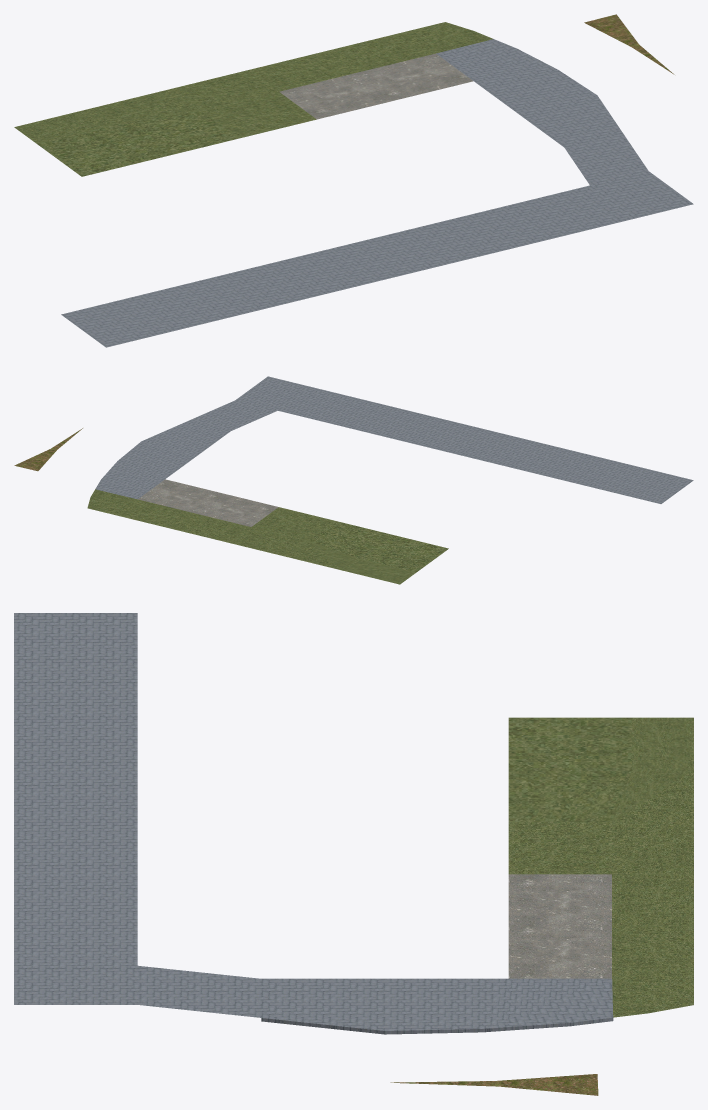
Rendered from vegasnedge17.obj.
3 views of the same model, one above another, from view 1: azimuth 30°, elevation 25°; view 2: azimuth 150°, elevation 25°; view 3: azimuth 270°, elevation 25° (orthographic). The views are drawn at different scales.
Visible parts, largest first — view 1: VegasNedge17; view 2: VegasNedge17; view 3: VegasNedge17.
Part boxes in pixels (box(x1,y1,x2,y2)): VegasNedge17: box(14, 14, 693, 347); VegasNedge17: box(14, 376, 693, 584); VegasNedge17: box(14, 613, 693, 1095).
Bounding box in the file's own units: 185 × 0.7409 × 110.
7 materials, 7 textured.
